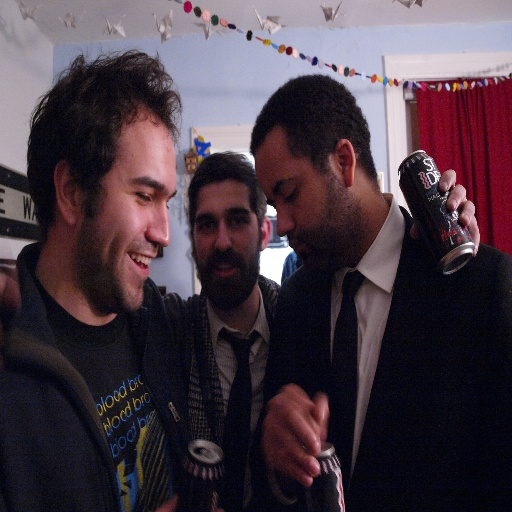hand: (261, 393, 351, 487), (410, 167, 482, 259), (0, 271, 22, 315), (153, 493, 180, 511)
